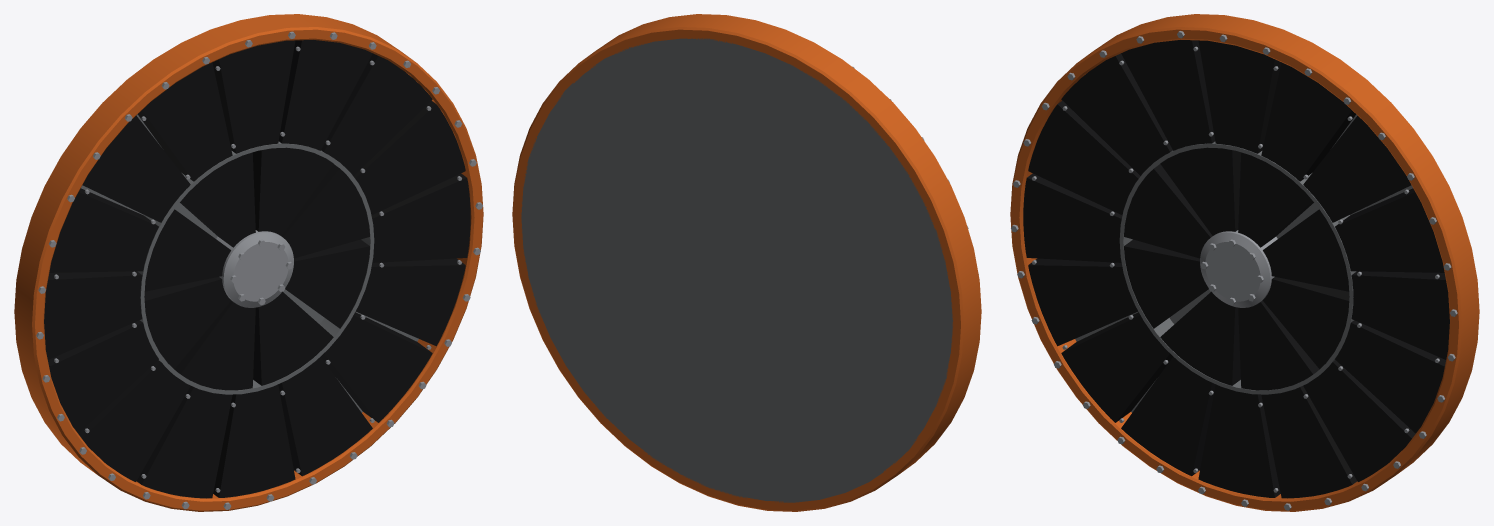
The model's file is engine_hot_emitter_annulus.obj.
3 renders of one model, left to right at view 1: azimuth 30°, elevation 25°; view 2: azimuth 150°, elevation 25°; view 3: azimuth 330°, elevation 25°, orthographic.
Visible parts, largest first — view 1: engine_hot_emitter_annulus; view 2: engine_hot_emitter_annulus; view 3: engine_hot_emitter_annulus.
Part boxes in pixels (x1,y1,x2,y2): engine_hot_emitter_annulus: (14, 14, 483, 511); engine_hot_emitter_annulus: (512, 14, 981, 511); engine_hot_emitter_annulus: (1010, 14, 1479, 511).
Size of the model in its own units: 4.88 by 4.88 by 0.44.
